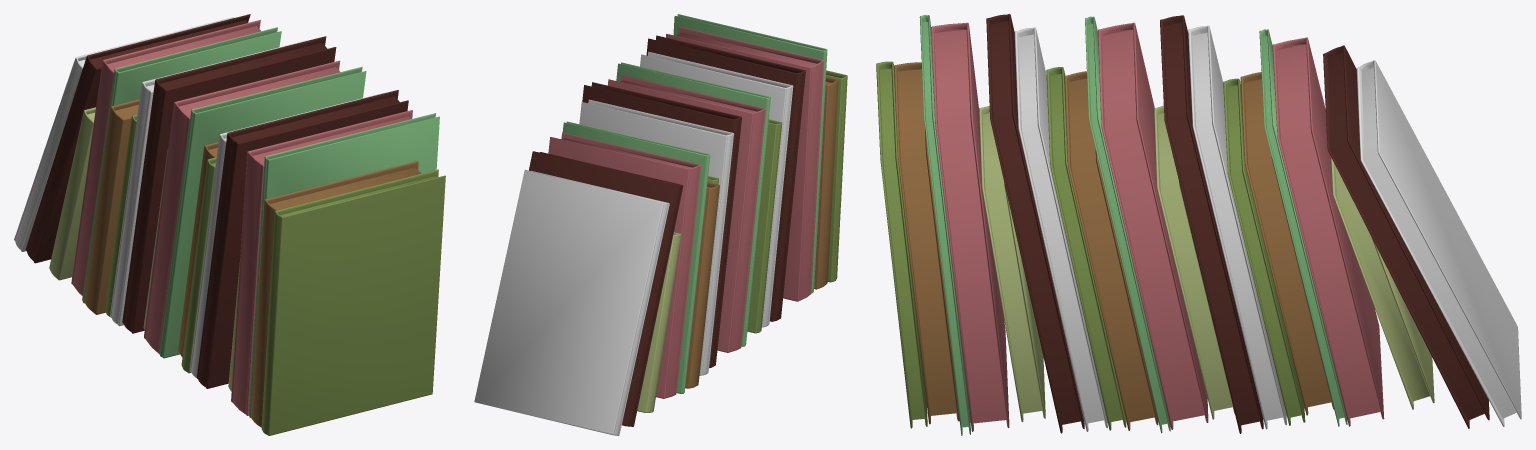
File: book33.fbx
3 renders of one model, left to right at view 1: azimuth 30°, elevation 25°; view 2: azimuth 150°, elevation 25°; view 3: azimuth 270°, elevation 25°, orthographic. The views are drawn at different scales.
Parts seen in each view (by area): view 1: Cube.025; view 2: Cube.025; view 3: Cube.025.
Boxes of the visible parts, left/top/right/bottom form: Cube.025: left=14, top=14, right=445, bottom=435; Cube.025: left=474, top=14, right=847, bottom=435; Cube.025: left=876, top=14, right=1521, bottom=435.
Size of the model in its own units: 41.56 by 58.28 by 106.
